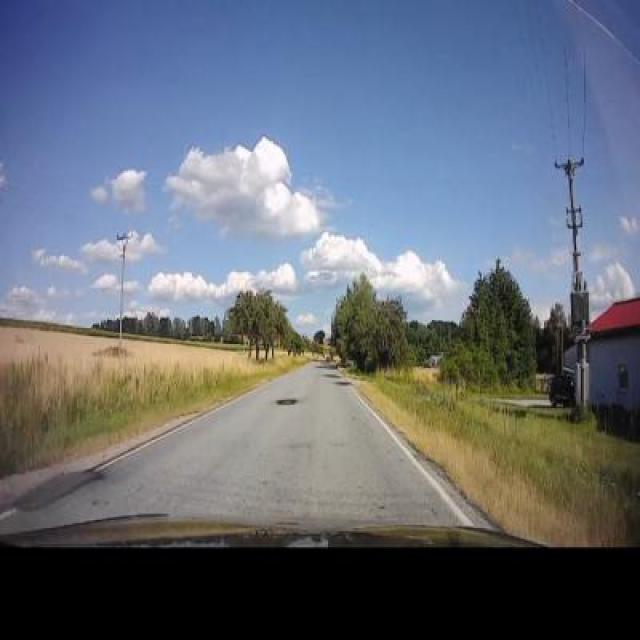clear-road: (0, 362, 488, 535)
